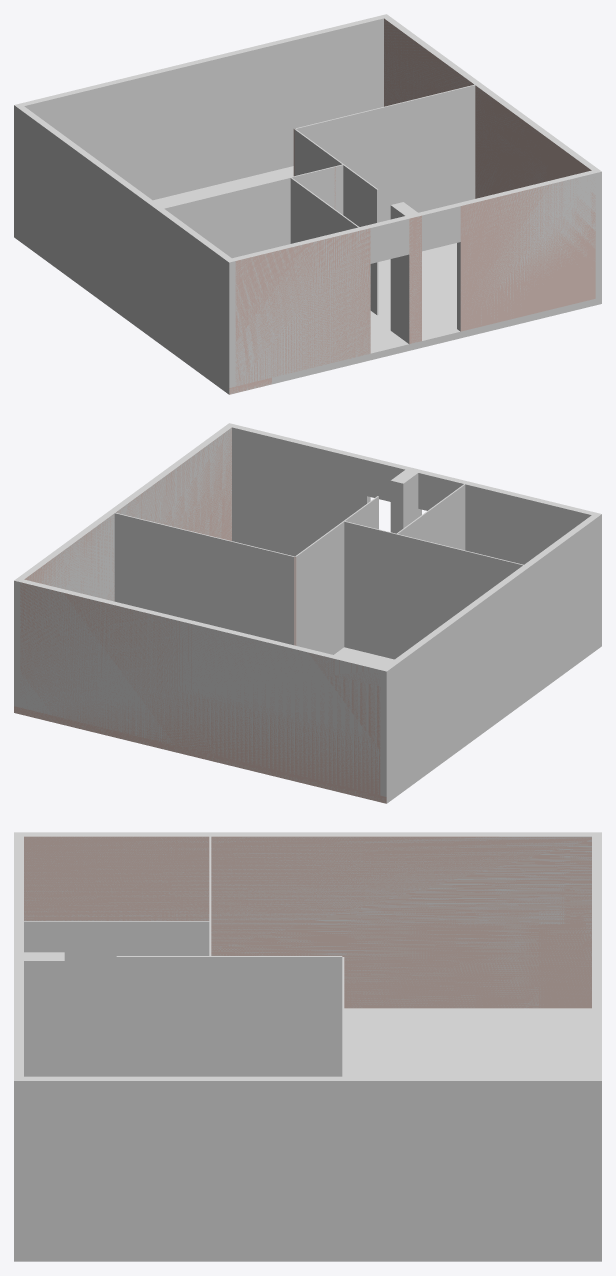
The model's file is modelosecretaria.fbx.
3 views of the same model, one above another, from view 1: azimuth 30°, elevation 25°; view 2: azimuth 150°, elevation 25°; view 3: azimuth 270°, elevation 25° (orthographic). The views are drawn at different scales.
Parts seen in each view (by area): view 1: Baseboard.008, Baseboard.001, Room.007, Room.008, Baseboard.003, Baseboard.015, Room.005, Baseboard, Baseboard.004, Baseboard.011, Baseboard.002, Baseboard.009 (+8 smaller); view 2: Baseboard.008, Baseboard.001, Room.002, Baseboard.015, Baseboard.004, Baseboard.002, Room.005, Baseboard.011, Baseboard.003, Baseboard.012, Baseboard.014, Baseboard (+6 smaller); view 3: Baseboard.002, Room.001, Baseboard.001, Baseboard, Baseboard.014, Baseboard.009, Baseboard.013, Baseboard.010, Baseboard.008, Baseboard.003, Baseboard.004.
Boxes of the visible parts, x1,y1,x2,y2 form: Baseboard.008: (20, 15, 383, 200); Baseboard.001: (14, 103, 235, 387); Room.007: (235, 228, 370, 386); Room.008: (460, 179, 595, 331); Baseboard.003: (232, 225, 370, 386); Baseboard.015: (295, 84, 475, 222); Room.005: (384, 18, 591, 198); Baseboard: (14, 166, 601, 394); Baseboard.004: (457, 170, 595, 331); Baseboard.011: (163, 177, 290, 258); Baseboard.002: (381, 14, 601, 298); Baseboard.009: (290, 177, 359, 243); Baseboard.008: (20, 579, 383, 794); Baseboard.001: (380, 512, 601, 796); Room.002: (20, 582, 380, 795); Baseboard.015: (114, 512, 294, 645); Baseboard.004: (232, 424, 370, 556); Baseboard.002: (14, 423, 234, 707); Room.005: (24, 427, 231, 600); Baseboard.011: (397, 534, 523, 657); Baseboard.003: (457, 479, 595, 564); Baseboard.012: (344, 521, 395, 659); Baseboard.014: (295, 521, 344, 654); Baseboard: (14, 640, 601, 803); Baseboard.002: (14, 1076, 601, 1252); Room.001: (24, 836, 591, 1008); Baseboard.001: (14, 832, 601, 1008); Baseboard: (14, 1008, 601, 1261); Baseboard.014: (211, 956, 342, 1076); Baseboard.009: (24, 921, 211, 1076); Baseboard.013: (116, 956, 211, 1076); Baseboard.010: (24, 952, 64, 1076); Baseboard.008: (592, 836, 601, 1076); Baseboard.003: (14, 836, 23, 926); Baseboard.004: (14, 986, 23, 1076).
Size of the model in its own units: 870 by 295 by 870.
